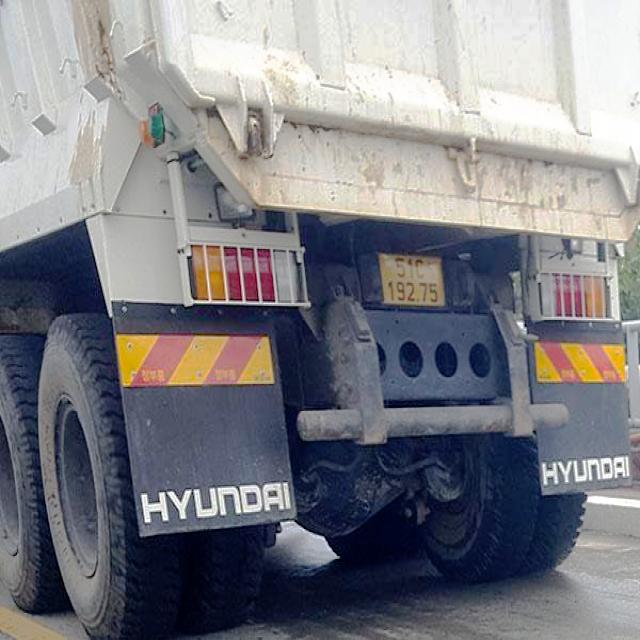license_plate: (382, 255, 446, 308)
